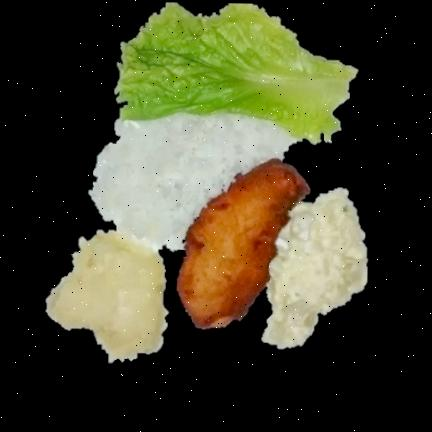chicken: (177, 159, 309, 327)
potato: (48, 231, 167, 361)
rice: (89, 113, 297, 250)
salad: (115, 2, 356, 142)
